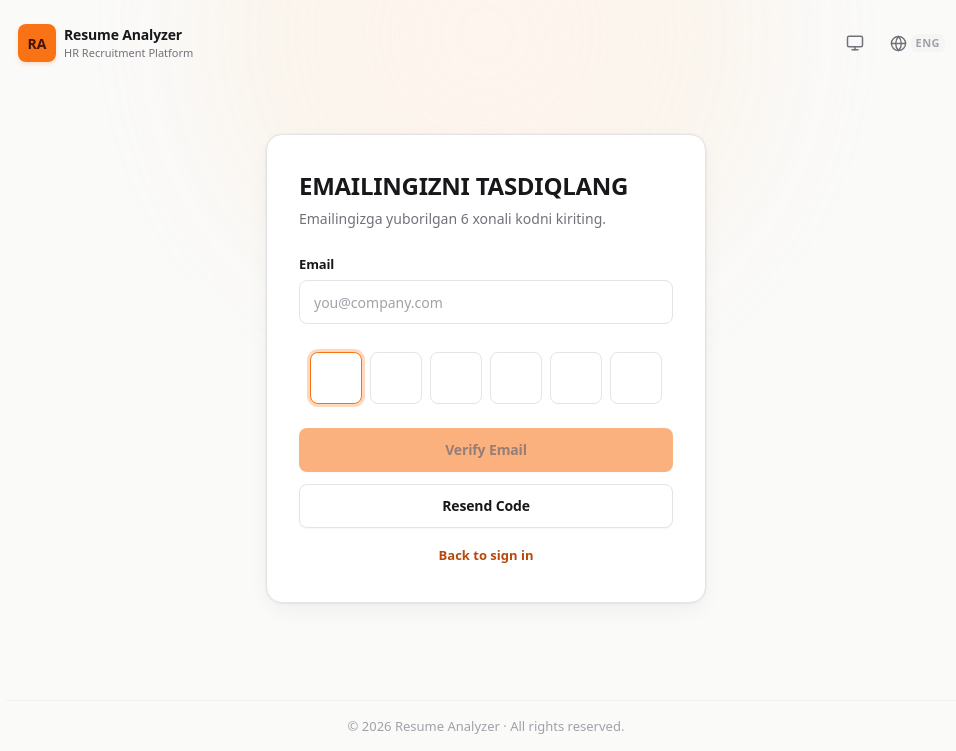
Test: VerifyEmailPage (OTP) › displays actionable error and does not start cooldown when resend fails with 502
Step 1. Type "jane@example.com" into the field labelled "Email" → {"x": 486, "y": 302}, box left=299, top=280, right=673, bottom=324
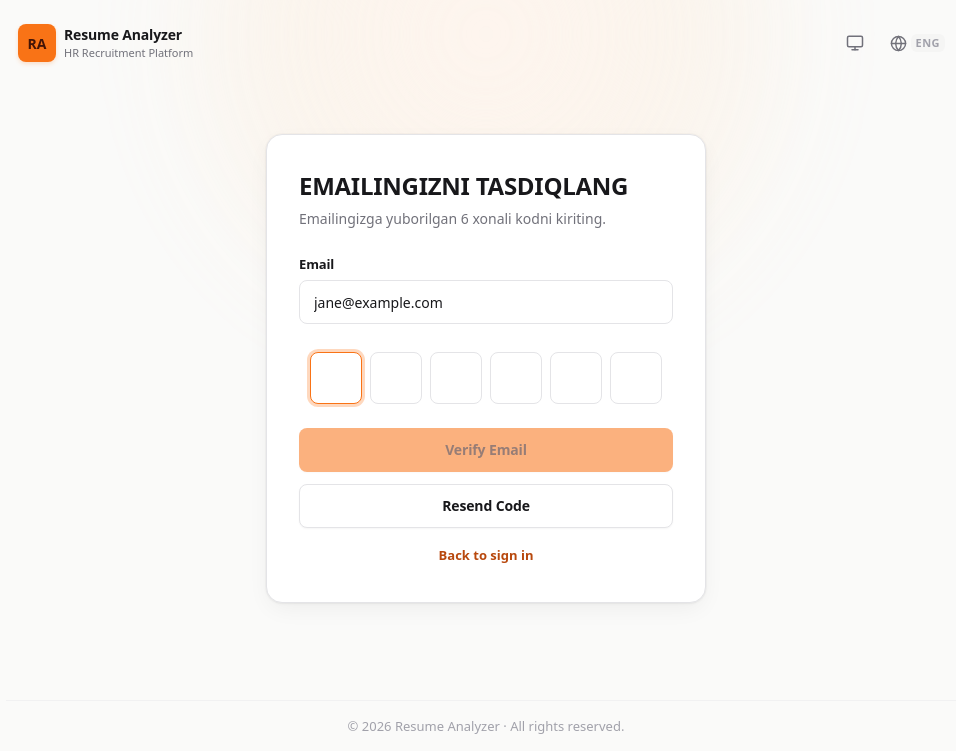
Step 2. Click the button "Resend Code" → {"x": 486, "y": 506}, box left=299, top=484, right=673, bottom=528
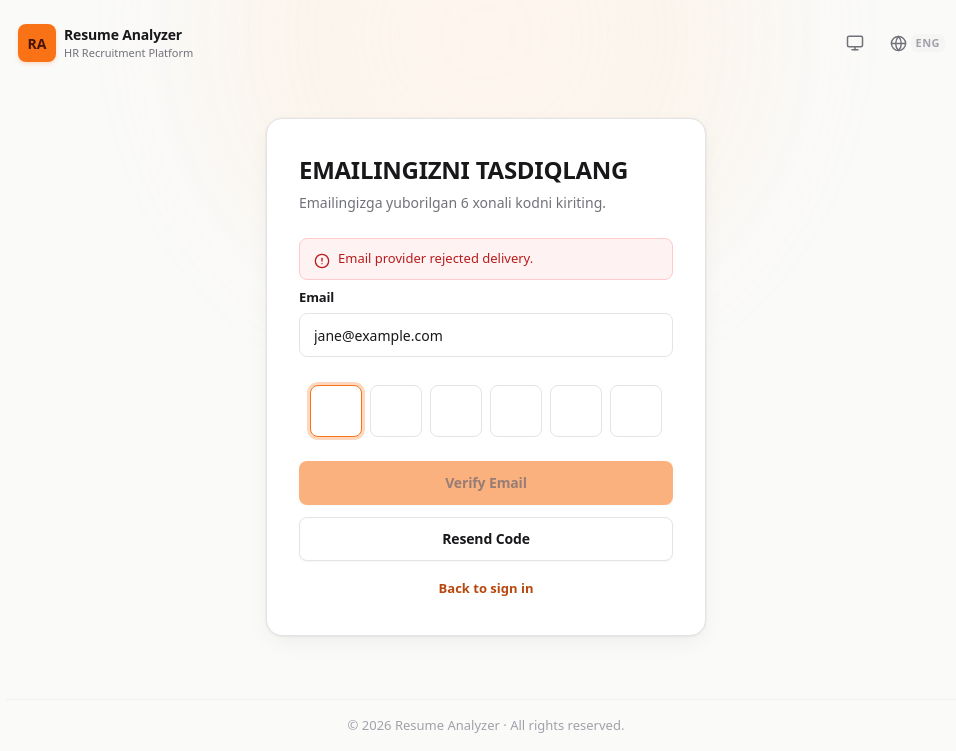
Expected: the button "Resend Code" is shown, left=299, top=517, right=673, bottom=561
Expected: the text "Email provider rejected delivery." is shown, left=338, top=249, right=533, bottom=267
